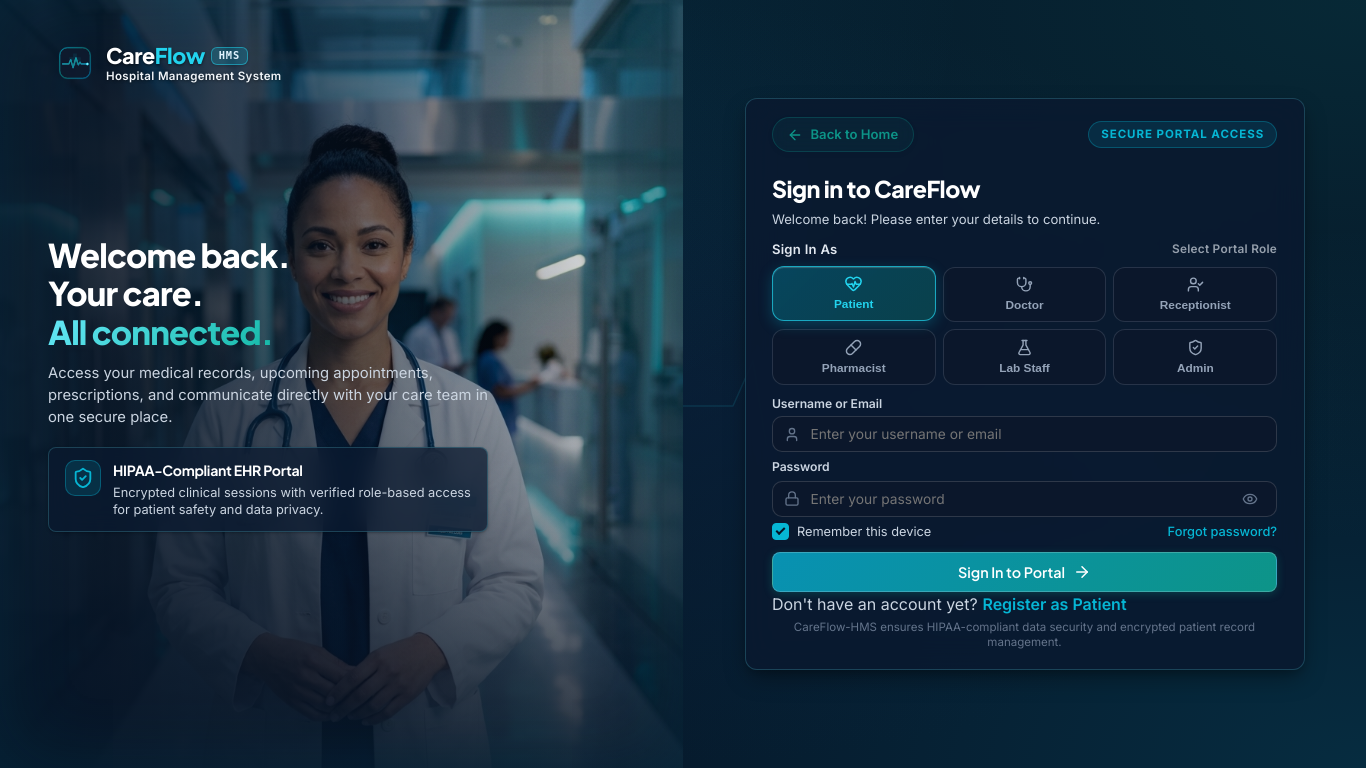
Test: Login & Register - Back to Home, Toast-Only Validation & Switch Account Removal › LoginPage blocks invalid email format submission with error toast only
The width and height of the screenshot is (1366, 768).
# Invalid email format (missing domain suffix)
Step 1. Type "charan@gmail" into the field with placeholder "Enter your username or email" → (1024, 434), box x1=772 y1=416 x2=1277 y2=452
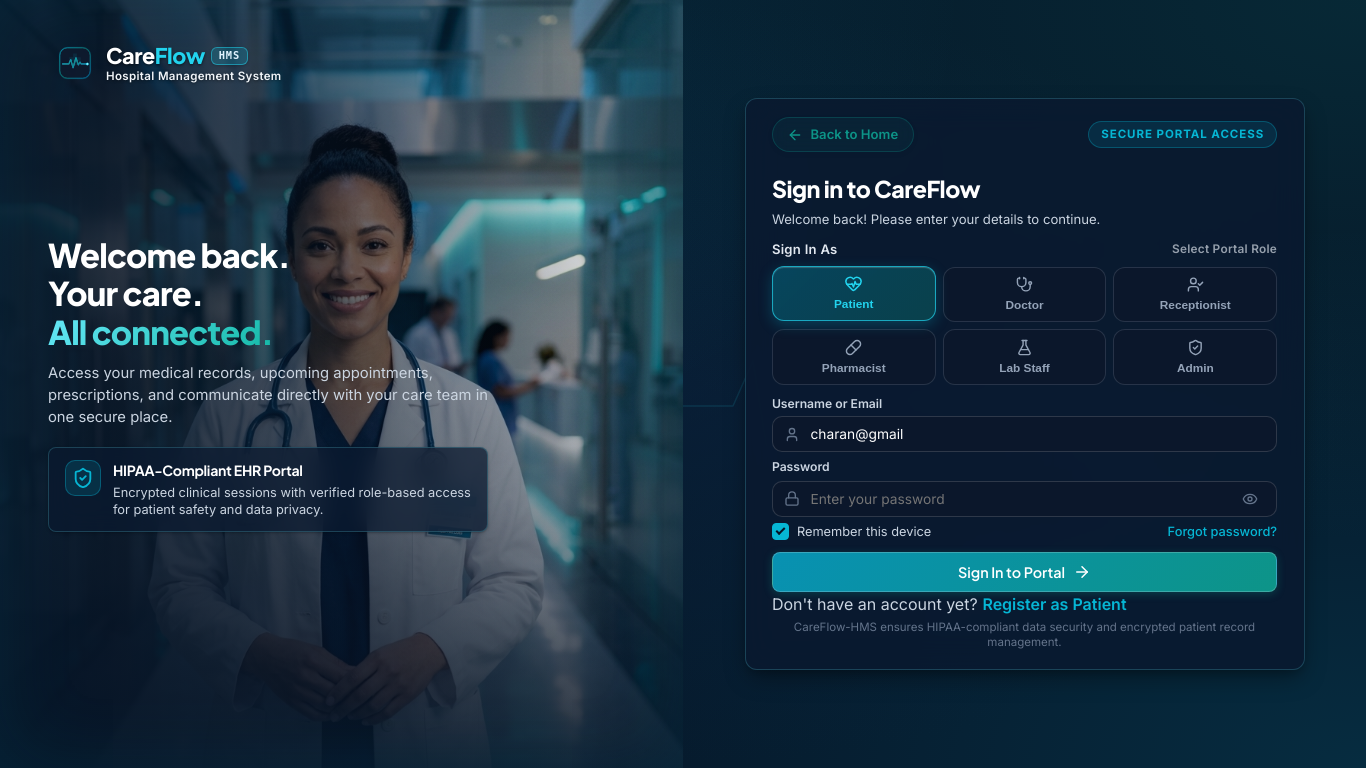
Step 2. Type "Password123!" into the password field with placeholder "Enter your password" → (1024, 499), box x1=772 y1=481 x2=1277 y2=517
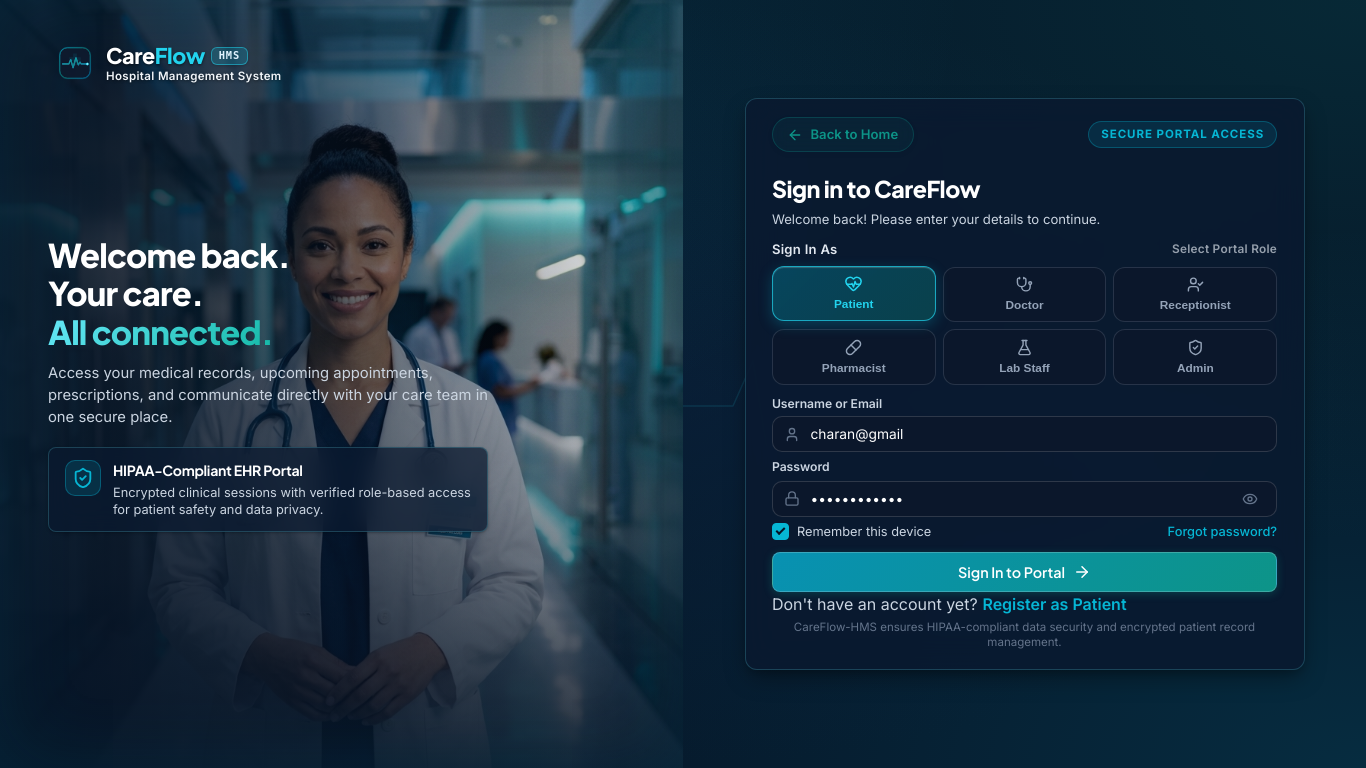
Step 3. Click the button "Sign In to Portal" → (1024, 572), box x1=772 y1=552 x2=1277 y2=592
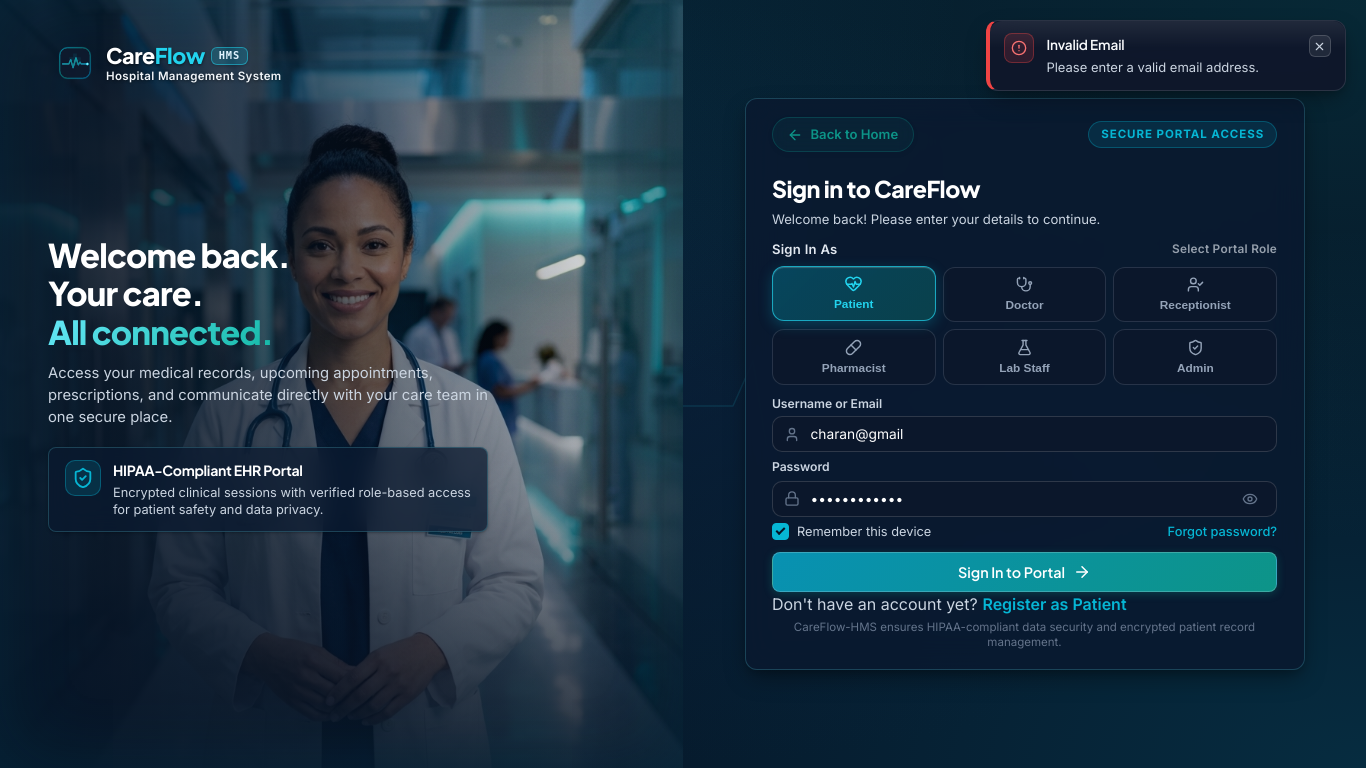
Check: the text "Please enter a valid email address." is shown, box x1=1046 y1=59 x2=1259 y2=75
